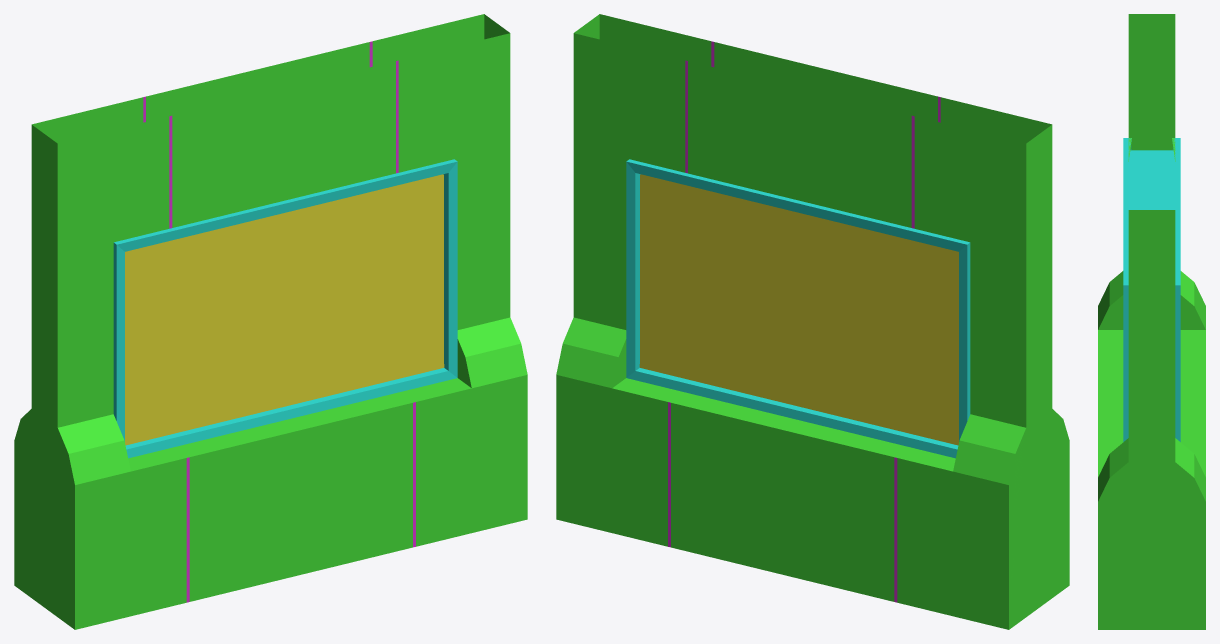
The model's file is Wall_43_H_Straight.fbx.
3 renders of one model, left to right at view 1: azimuth 30°, elevation 25°; view 2: azimuth 150°, elevation 25°; view 3: azimuth 270°, elevation 25°, orthographic. The views are drawn at different scales.
Visible parts, largest first — view 1: Wall_43_H_Straight; view 2: Wall_43_H_Straight; view 3: Wall_43_H_Straight.
Boxes of the visible parts, <box> form: Wall_43_H_Straight: <box>14,14,527,629</box>; Wall_43_H_Straight: <box>556,14,1069,629</box>; Wall_43_H_Straight: <box>1098,14,1205,629</box>.
Bounding box in the file's own units: 457 × 457 × 106.
